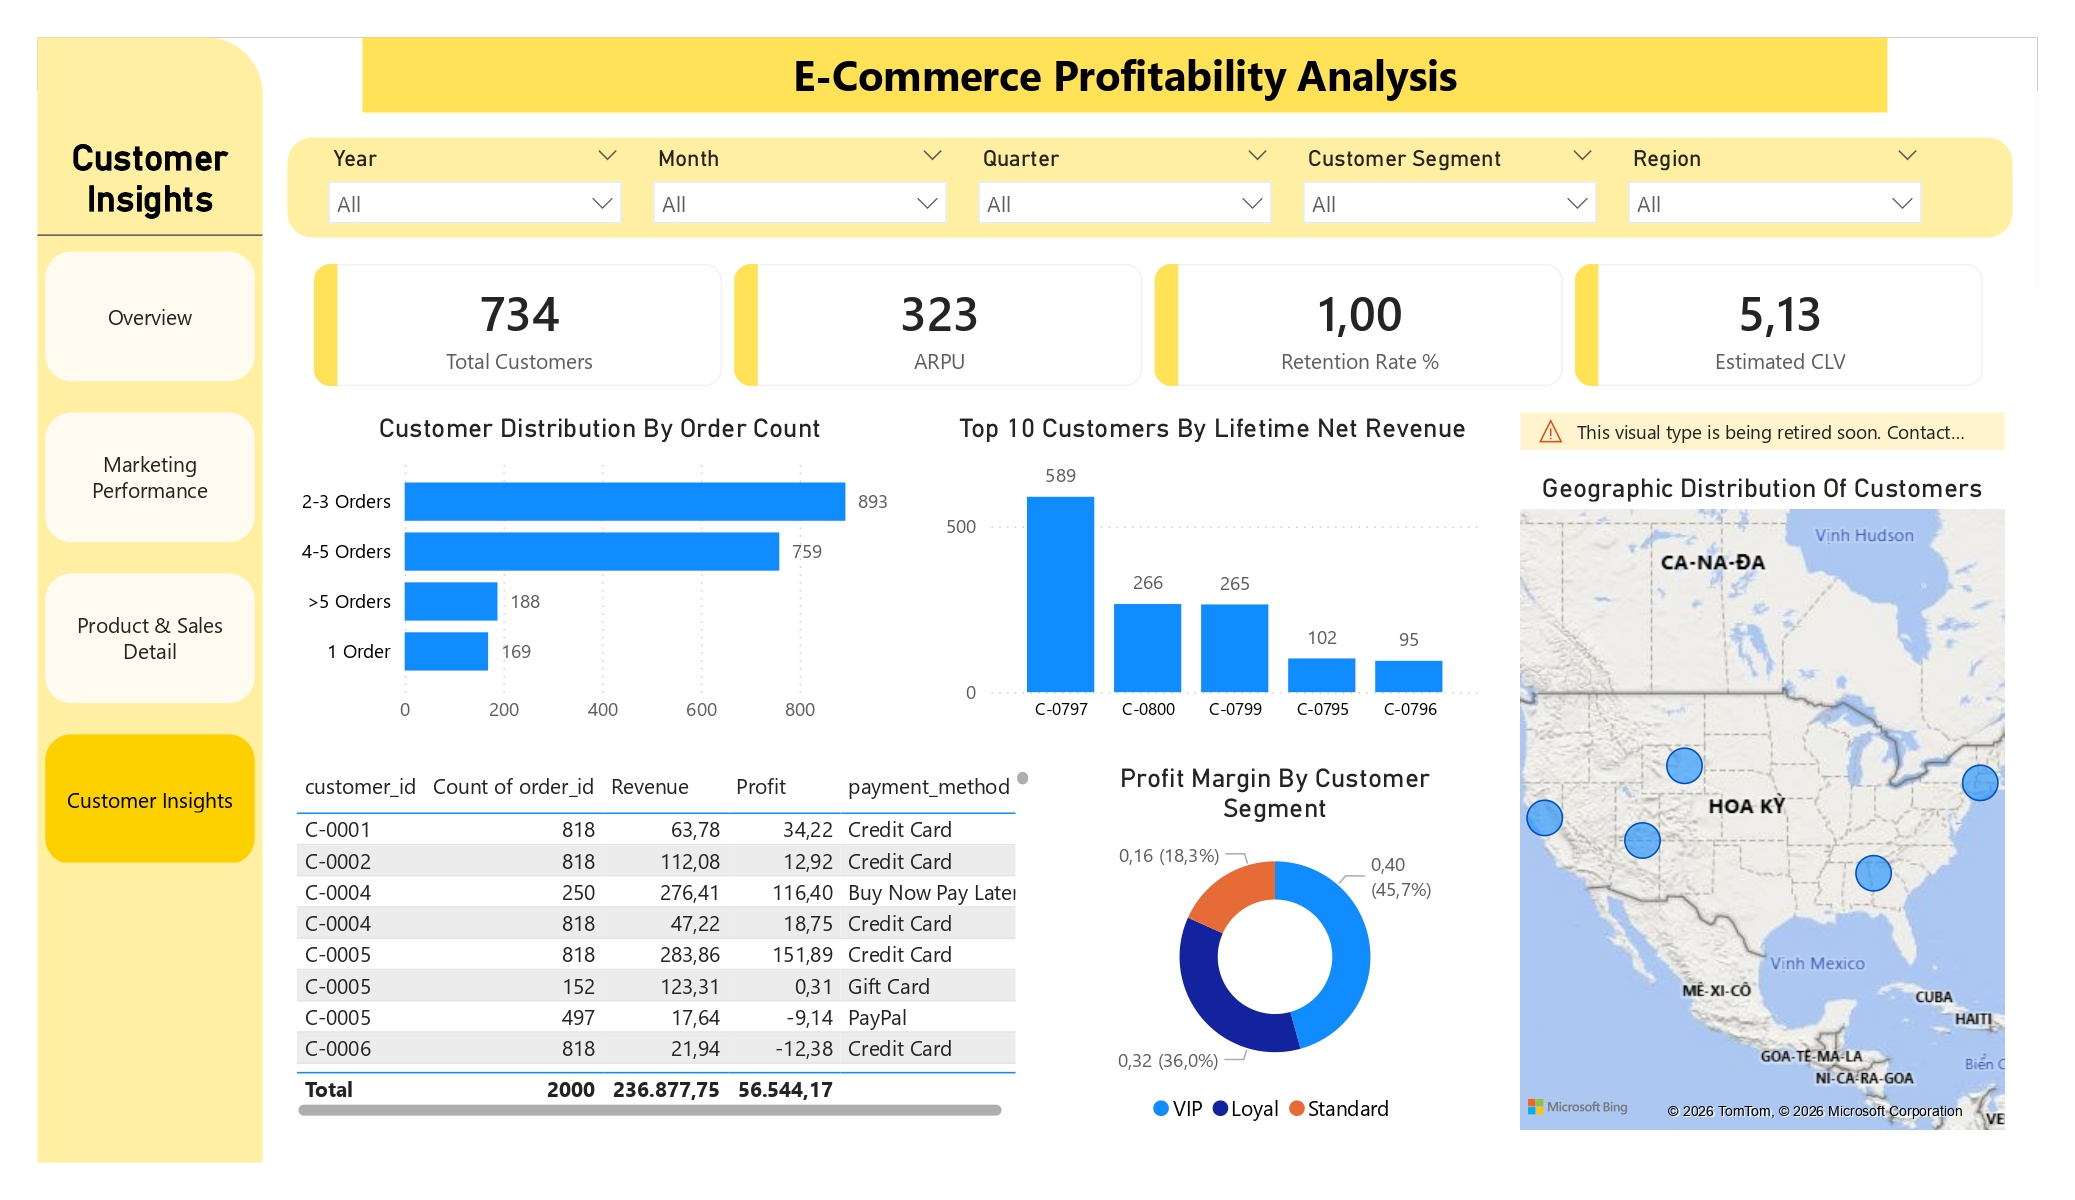

The page's visual inventory and layout, read from the dashboard file:
{"tool":"powerbi","page":{"name":"Customer Insights","canvas":[1280,720],"ordinal":3},"visuals":[{"type":"textbox","box":[208,0,976,48],"z":0},{"type":"shape","box":[0,0,144,720],"z":1000},{"type":"shape","box":[160,64,1104,64],"z":2000},{"type":"cardVisual","fields":{"Data":["Count(dim_customer.customer_id)","fact_order_details.ARPU","fact_order_details.Retention Rate %","fact_order_details.Estimated CLV"]},"box":[160,128,1104,112],"z":3000},{"type":"barChart","title":"Customer Distribution By Order Count","fields":{"Category":["dim_customer.Order Group"],"Y":["CountNonNull(fact_order_details.customer_id)"]},"box":[160,240,400,208],"z":4000},{"type":"clusteredColumnChart","title":"Top 10 Customers By Lifetime Net Revenue","fields":{"Y":["Sum(fact_order_details.net_revenue)"],"Category":["dim_customer.customer_id"]},"box":[576,240,352,208],"z":5000},{"type":"map","title":"Geographic Distribution Of Customers","fields":{"Category":["dim_order.region"],"Size":["CountNonNull(dim_customer.customer_id)"]},"box":[944,240,320,464],"z":6000},{"type":"donutChart","title":"Profit Margin By Customer Segment","fields":{"Category":["dim_customer.Customer Segment"],"Y":["fact_order_details.Profit Margin"]},"box":[656,464,272,240],"z":7000},{"type":"slicer","fields":{"Values":["Calendar.Date.Variation.Date Hierarchy.Year"]},"box":[176,64,208,80],"z":8000},{"type":"slicer","fields":{"Values":["Calendar.Month"]},"box":[384,64,208,80],"z":9000},{"type":"slicer","fields":{"Values":["Calendar.Date.Variation.Date Hierarchy.Quarter"]},"box":[592,64,208,80],"z":10000},{"type":"slicer","fields":{"Values":["dim_customer.Customer Segment"]},"box":[800,64,208,80],"z":11000},{"type":"slicer","fields":{"Values":["dim_order.region"]},"box":[1008,64,208,80],"z":12000},{"type":"tableEx","fields":{"Values":["dim_customer.customer_id","dim_order.order_id","fact_order_details.Total Revenue","Sum(fact_order_details.profit)","dim_order.payment_method"]},"box":[160,464,480,232],"z":14000},{"type":"pageNavigator","title":"Customer Insights","box":[0,64,144,464],"z":14001}]}

Visuals, with their boxes on the page's 1280x720 design canvas (x1, y1, x2, y2). These are canvas units, not pixel positions in the 2075x1200 screenshot, which may show the page scaled, cropped or inside an application window:
textbox: box=[208, 0, 1184, 48]
shape: box=[0, 0, 144, 720]
shape: box=[160, 64, 1264, 128]
cardVisual - Count(dim_customer.customer_id) x fact_order_details.ARPU: box=[160, 128, 1264, 240]
"Customer Distribution By Order Count" barChart: box=[160, 240, 560, 448]
"Top 10 Customers By Lifetime Net Revenue" clusteredColumnChart: box=[576, 240, 928, 448]
"Geographic Distribution Of Customers" map: box=[944, 240, 1264, 704]
"Profit Margin By Customer Segment" donutChart: box=[656, 464, 928, 704]
slicer - Calendar.Date.Variation.Date Hierarchy.Year: box=[176, 64, 384, 144]
slicer - Calendar.Month: box=[384, 64, 592, 144]
slicer - Calendar.Date.Variation.Date Hierarchy.Quarter: box=[592, 64, 800, 144]
slicer - dim_customer.Customer Segment: box=[800, 64, 1008, 144]
slicer - dim_order.region: box=[1008, 64, 1216, 144]
tableEx - dim_customer.customer_id x dim_order.order_id: box=[160, 464, 640, 696]
"Customer Insights" pageNavigator: box=[0, 64, 144, 528]
